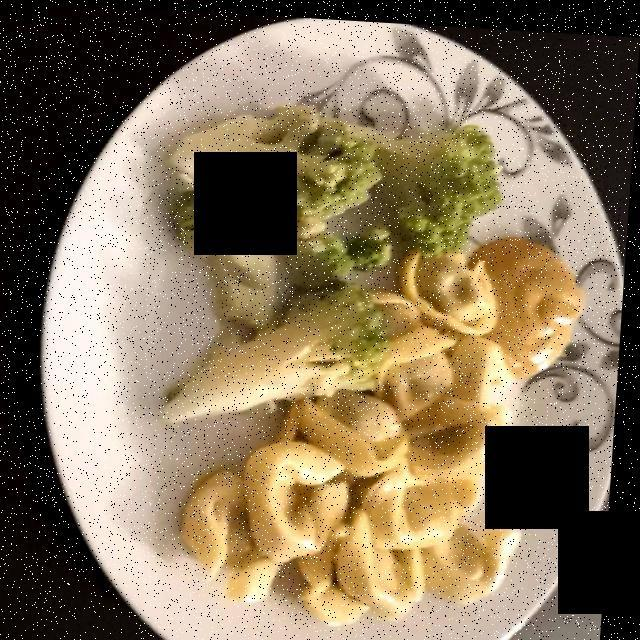mustard: (478, 227, 586, 375)
pasta: (198, 236, 527, 616)
romanesco: (161, 110, 495, 421)
